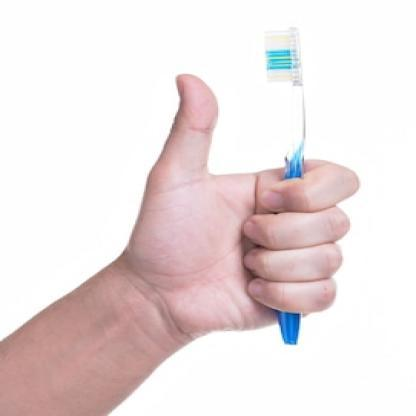thumb_up: (134, 69, 360, 332)
